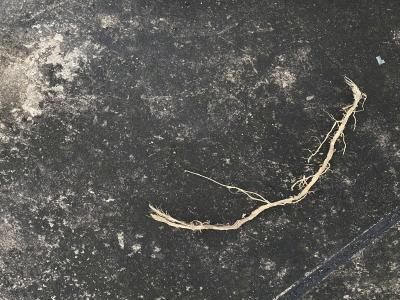Root: (149, 79, 366, 230)
